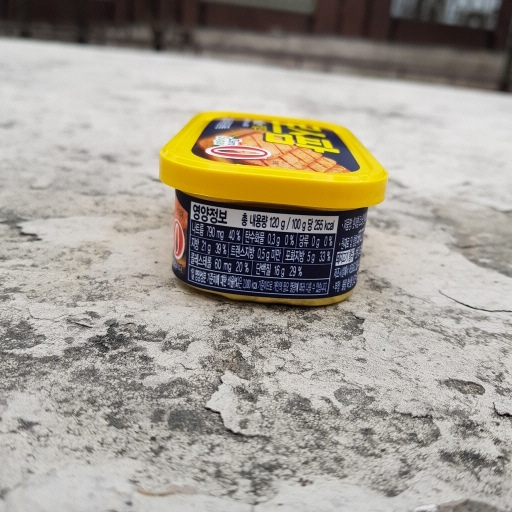Metal_2: (158, 108, 391, 312)
